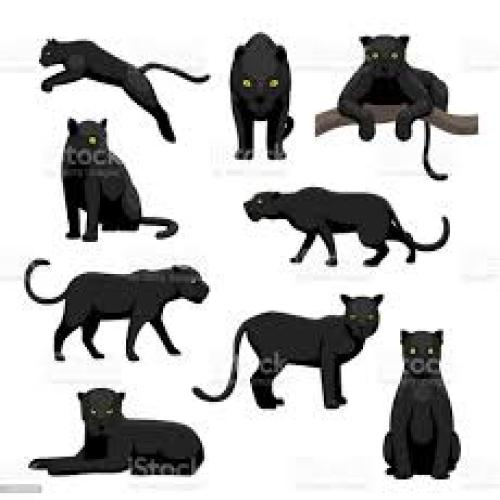panther-endangered: (195, 292, 384, 404), (25, 257, 212, 363), (37, 37, 210, 144), (240, 188, 451, 268), (338, 34, 447, 184), (33, 386, 205, 480), (58, 119, 183, 244), (384, 328, 461, 483), (227, 33, 294, 161)
